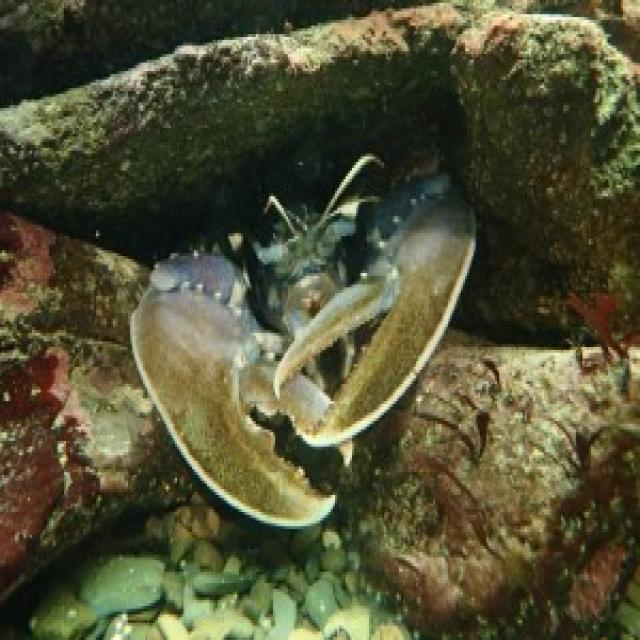lobsters: (98, 79, 612, 590)
